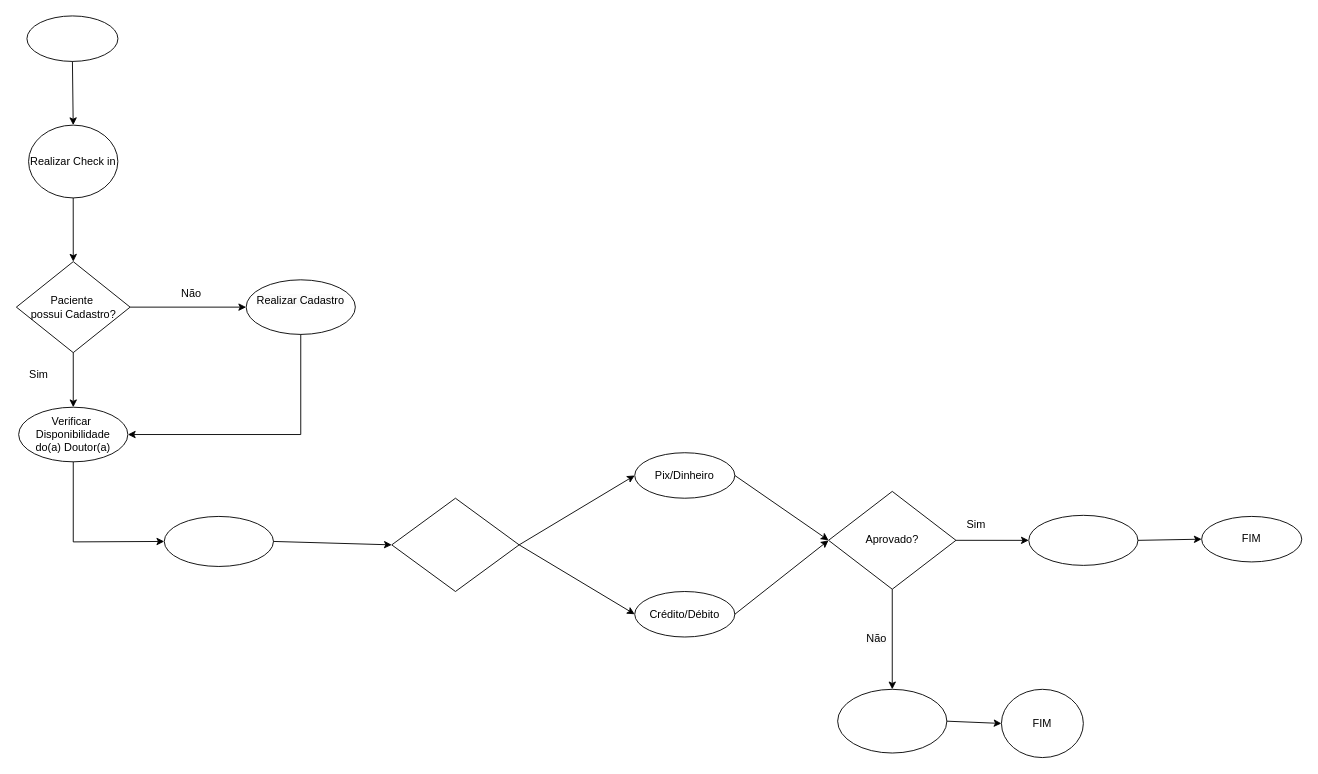
This 1318x774 diagram has some shape labels left out. Each missing label, with the centre of its shape:
"Agendamento Realizado" goes at (x=1083, y=539).
"Inicio" goes at (x=72, y=38).
"Realizar Pagamento" goes at (x=218, y=541).
"Selecionar Forma de Pagamento" goes at (x=455, y=544).
"Verificar Saldo Bancário" goes at (x=892, y=720).
